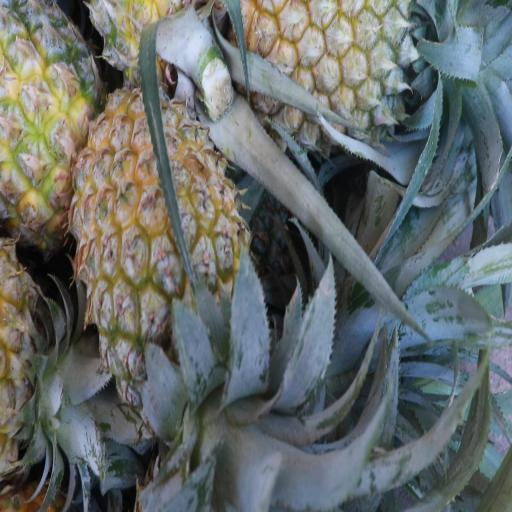------------------------------: (0, 0, 98, 261)
Pineapple - v8 v1: (64, 79, 255, 512), (216, 0, 441, 167)
